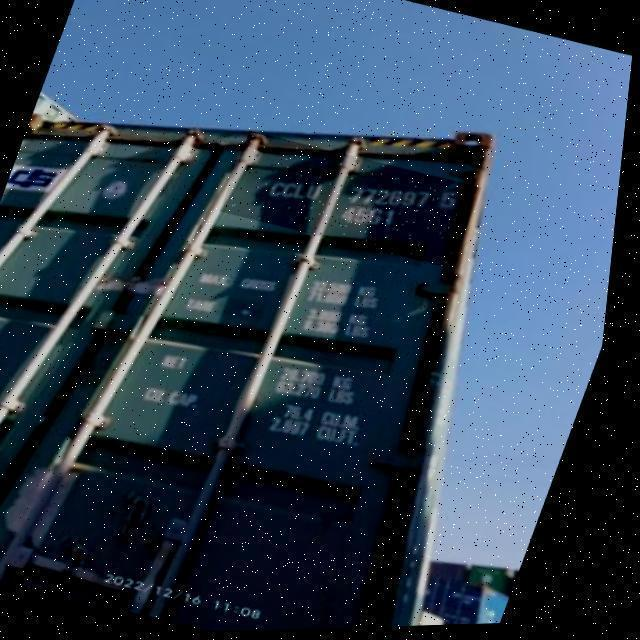ISO: (333, 213, 409, 233)
container_number: (255, 182, 480, 204)
